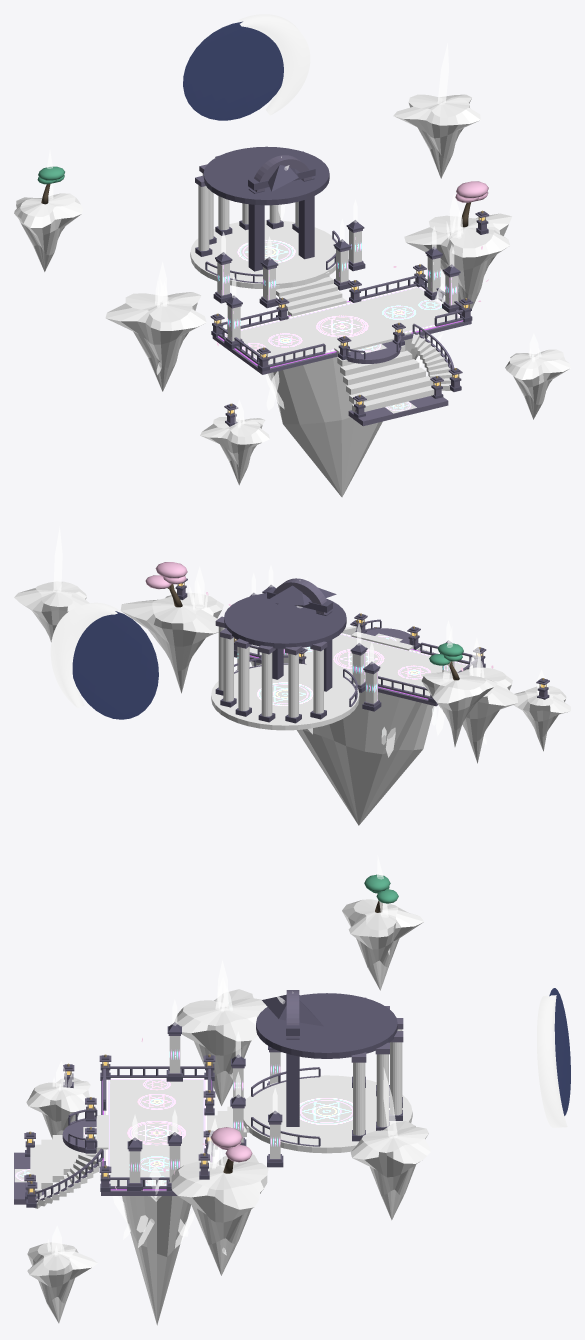
Rendered from KeyFury_3D_CelestialVoid_True3D.glb.
3 views of the same model, one above another, from view 1: azimuth 30°, elevation 25°; view 2: azimuth 150°, elevation 25°; view 3: azimuth 270°, elevation 25° (orthographic). The views are drawn at different scales.
Visible parts, largest first — view 1: Arena_Rock_Underside, Arena_Magic_Floor_Plane, Celestial_Moon_Ghost_Sphere, Island_Left_Primary, Island_Right_Primary, Temple_Entablature_Ring, Temple_Terrace_Deck, Island_Right_High, Celestial_Crescent_Moon, Island_Left_High, Island_Right_Forward, Island_Left_Forward (+12 smaller); view 2: Arena_Rock_Underside, Celestial_Moon_Ghost_Sphere, Temple_Entablature_Ring, Island_Right_Primary, Temple_Terrace_Deck, Arena_Magic_Floor_Plane, Celestial_Crescent_Moon, Island_Left_High, Island_Left_Primary, Island_Right_High, Island_Left_Forward, Temple_Seal_Plane (+13 smaller); view 3: Arena_Magic_Floor_Plane, Temple_Entablature_Ring, Island_Right_Primary, Temple_Terrace_Deck, Island_Left_Primary, Arena_Rock_Underside, Island_Right_High, Island_Left_High, Island_Right_Forward, Celestial_Crescent_Moon, Island_Left_Forward, Temple_Seal_Plane (+7 smaller).
Boxes of the visible parts, left/top/right/bottom form: Arena_Rock_Underside: left=268, top=335, right=428, bottom=497; Arena_Magic_Floor_Plane: left=224, top=286, right=459, bottom=364; Celestial_Moon_Ghost_Sphere: left=183, top=21, right=283, bottom=120; Island_Left_Primary: left=105, top=292, right=206, bottom=391; Island_Right_Primary: left=404, top=213, right=512, bottom=311; Temple_Entablature_Ring: left=203, top=146, right=329, bottom=205; Temple_Terrace_Deck: left=190, top=220, right=337, bottom=288; Island_Right_High: left=393, top=94, right=480, bottom=178; Celestial_Crescent_Moon: left=237, top=14, right=310, bottom=115; Island_Left_High: left=14, top=193, right=82, bottom=271; Island_Right_Forward: left=505, top=349, right=570, bottom=419; Island_Left_Forward: left=200, top=417, right=269, bottom=485; Arena_Rock_Underside: left=297, top=690, right=434, bottom=825; Celestial_Moon_Ghost_Sphere: left=72, top=611, right=158, bottom=719; Temple_Entablature_Ring: left=224, top=593, right=346, bottom=648; Island_Right_Primary: left=120, top=592, right=223, bottom=693; Temple_Terrace_Deck: left=211, top=663, right=359, bottom=730; Arena_Magic_Floor_Plane: left=249, top=633, right=472, bottom=695; Celestial_Crescent_Moon: left=50, top=602, right=121, bottom=707; Island_Left_High: left=421, top=672, right=497, bottom=746; Island_Left_Primary: left=422, top=667, right=517, bottom=763; Island_Right_High: left=14, top=581, right=89, bottom=642; Island_Left_Forward: left=513, top=685, right=570, bottom=751; Temple_Seal_Plane: left=249, top=678, right=313, bottom=709; Arena_Magic_Floor_Plane: left=105, top=1078, right=208, bottom=1185; Temple_Entablature_Ring: left=256, top=993, right=397, bottom=1058; Island_Right_Primary: left=171, top=1154, right=268, bottom=1275; Temple_Terrace_Deck: left=243, top=1075, right=412, bottom=1153; Island_Left_Primary: left=174, top=989, right=266, bottom=1105; Arena_Rock_Underside: left=122, top=1196, right=190, bottom=1325; Island_Right_High: left=350, top=1121, right=430, bottom=1220; Island_Left_High: left=342, top=899, right=423, bottom=990; Island_Right_Forward: left=27, top=1242, right=97, bottom=1323; Celestial_Crescent_Moon: left=537, top=995, right=567, bottom=1127; Island_Left_Forward: left=26, top=1077, right=90, bottom=1139; Temple_Seal_Plane: left=299, top=1096, right=352, bottom=1126.
Size of the model in its own units: 41.24 by 27.92 by 37.74.
